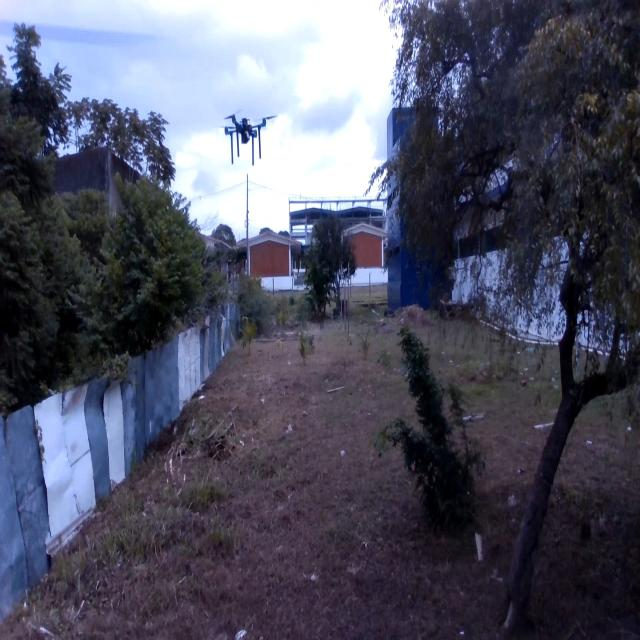-uav-: (212, 101, 283, 173)
